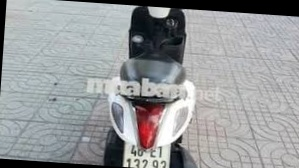Bien-so: (124, 139, 172, 168)
